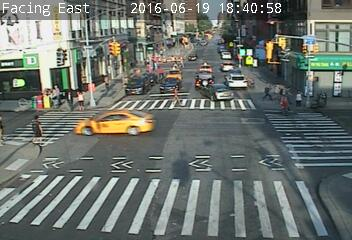neg: (155, 44, 168, 62), (187, 49, 199, 64), (251, 55, 260, 68), (171, 61, 180, 73), (243, 54, 252, 66)
pos: (25, 113, 46, 141), (275, 92, 292, 115), (72, 88, 87, 108), (169, 84, 184, 104), (262, 81, 275, 100), (63, 88, 76, 106), (100, 73, 112, 88), (293, 88, 305, 102), (49, 91, 58, 104), (52, 83, 61, 95)
